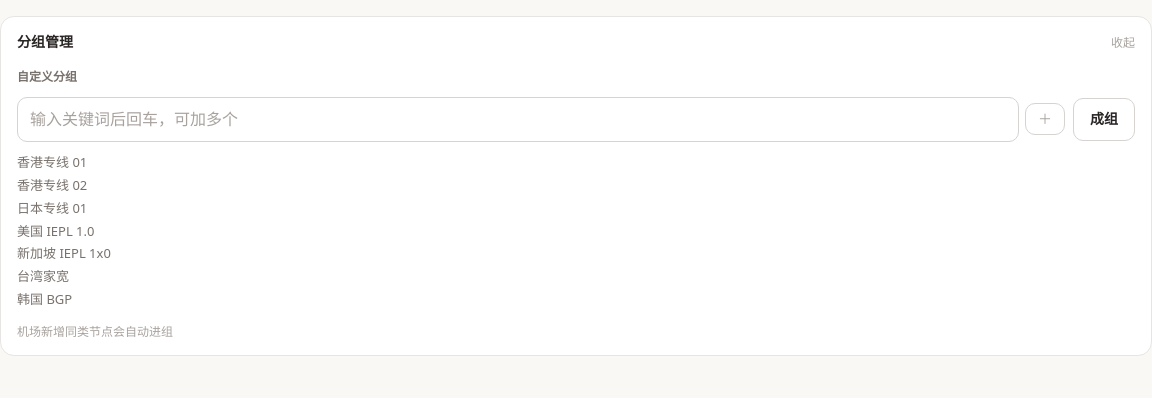
it: GroupPanel 打词匹配与防抖 › 零命中：成组禁用 + 提示换词（创建期零命中不确认成组）
The width and height of the screenshot is (1152, 398).
Type "不存在的词" into the field named "分组关键词" at (518, 119), box [17,97,1019,142]
Wait 250 ms
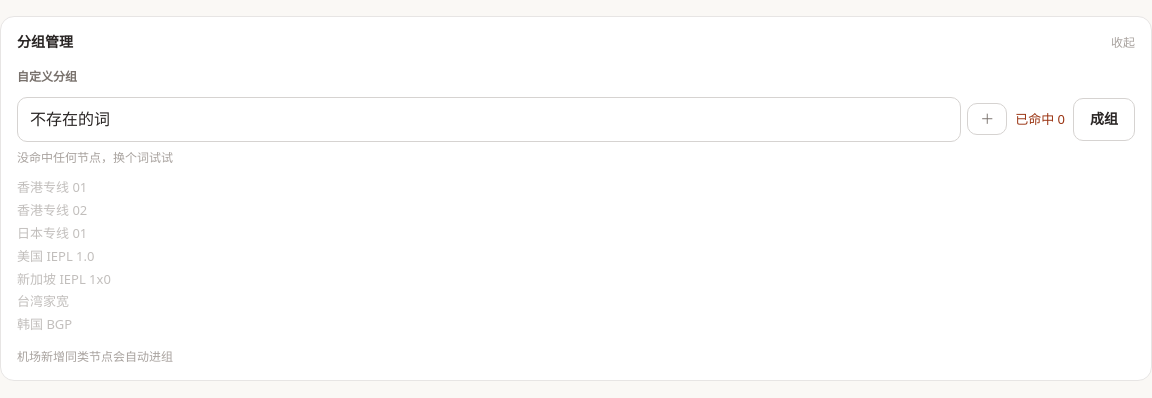
Expected: the button with class "group-confirm" is disabled, [1073,98,1135,141]
Expected: the text "已命中 0" is shown, [1015,109,1065,130]
Expected: the text with class "group-kw-hint" shows "没命中任何节点", [17,149,173,166]
